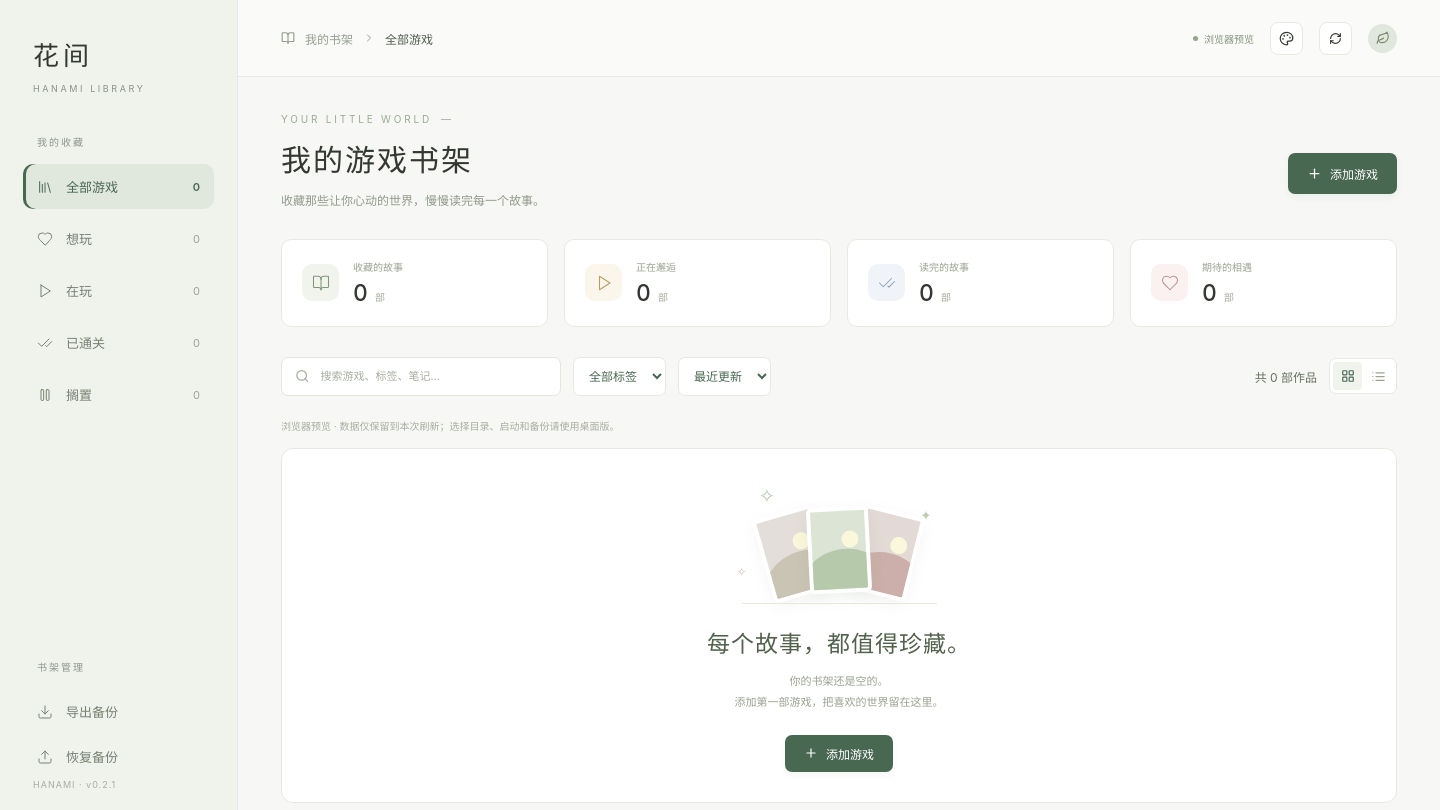
图标正在提取时选手动封面，晚到的默认图标不会覆盖它
Expected: the heading "每个故事，都值得珍藏。" is shown, [707,625,971,659]
Click the button "添加游戏" in the row of "我的游戏书架" at coordinates (1342, 174), box [1288,153,1397,194]
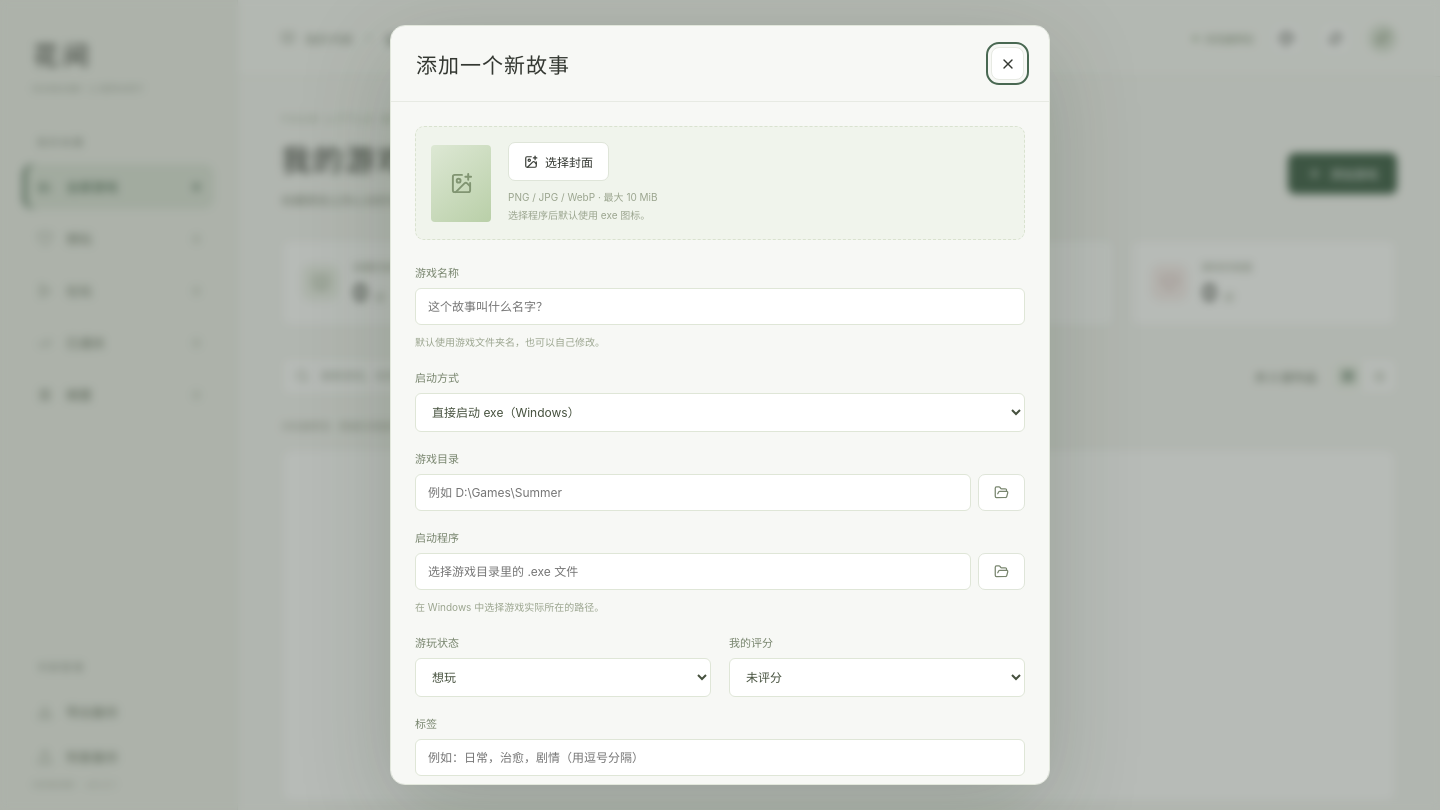
Type "D:\\Games\\Summer" into the field labelled "游戏目录" at coordinates (693, 492), box [415,474,971,511]
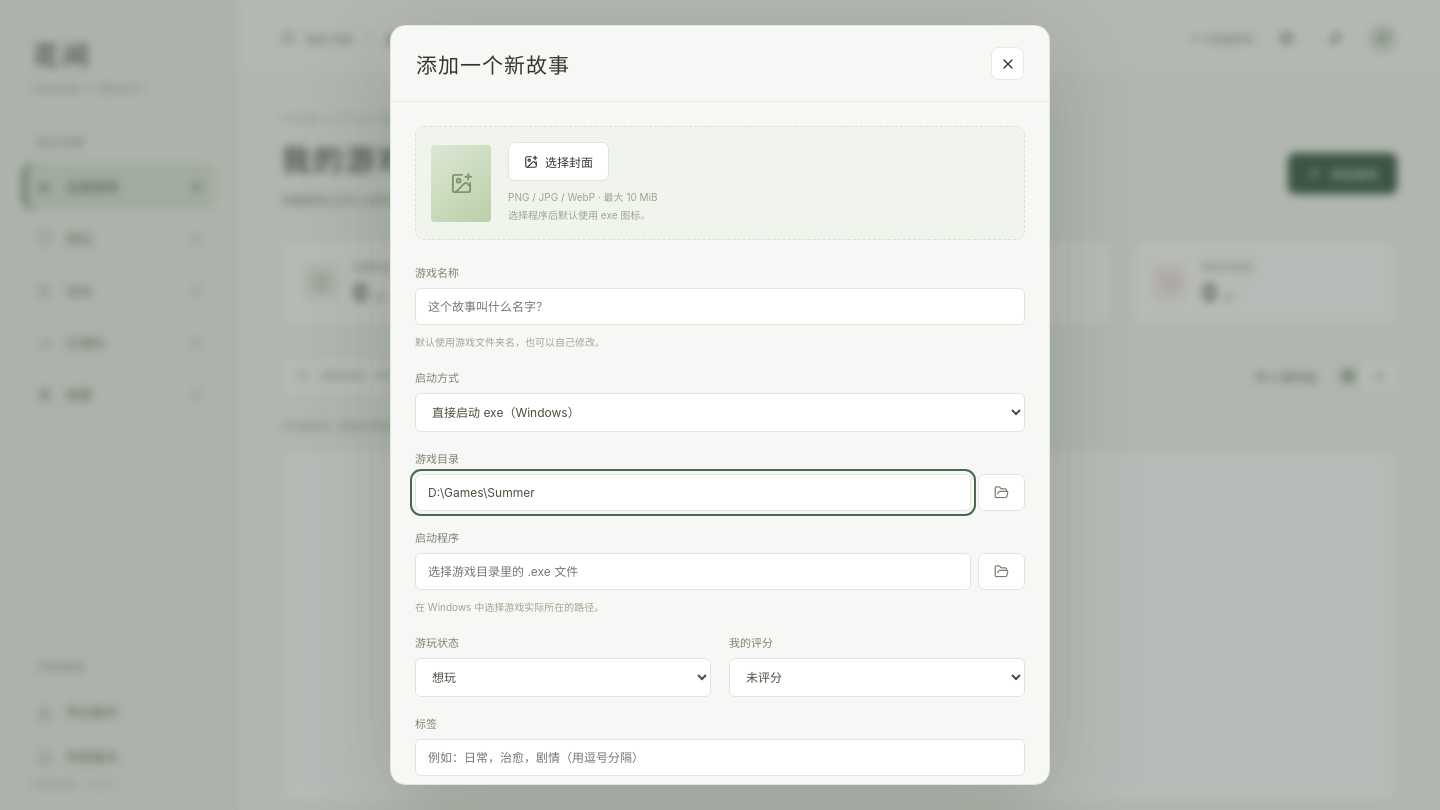
Click the button named "选择启动程序" at coordinates (1002, 572), box [978,553,1025,590]
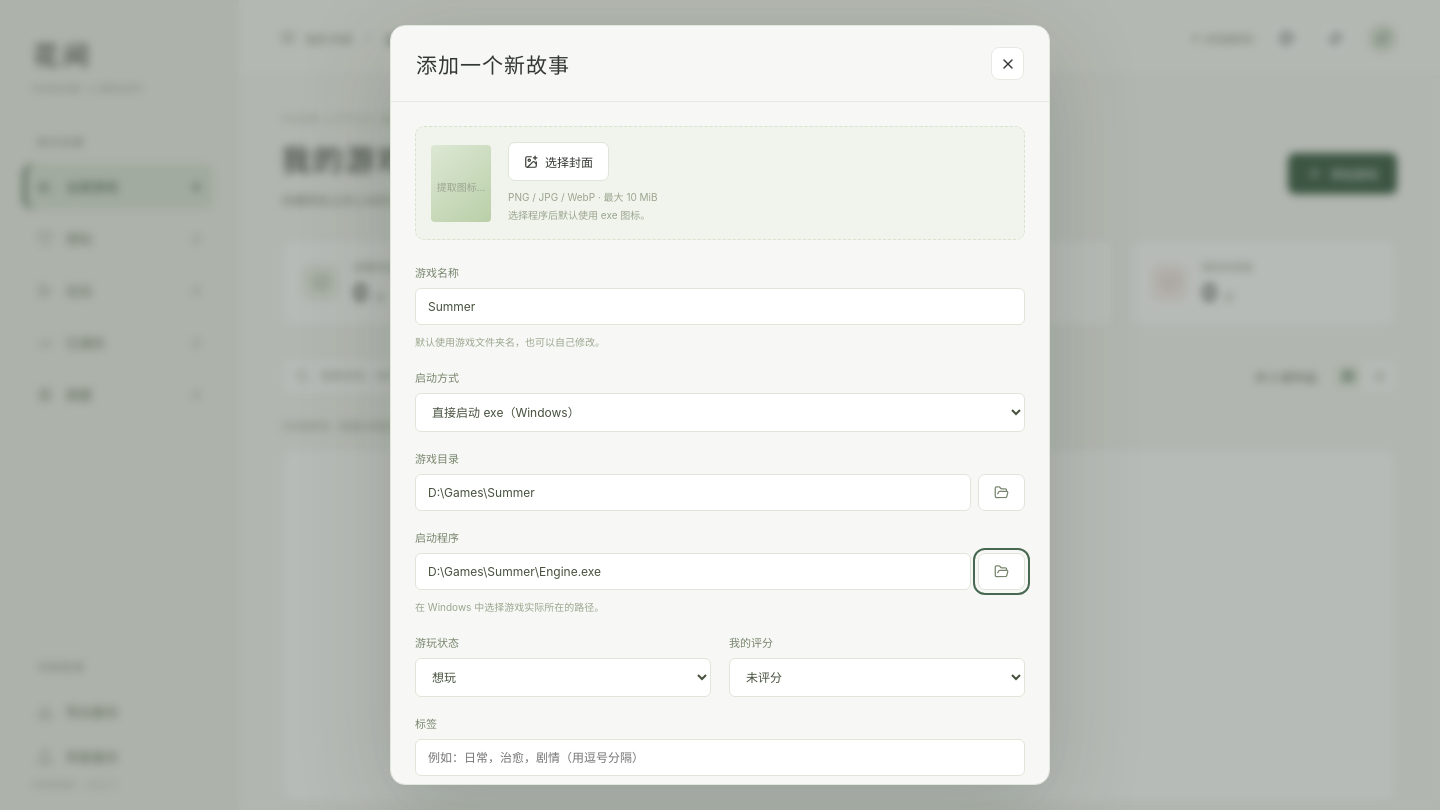
Click the button "选择封面" at coordinates (558, 162), box [508,142,609,181]
(page scrolled)
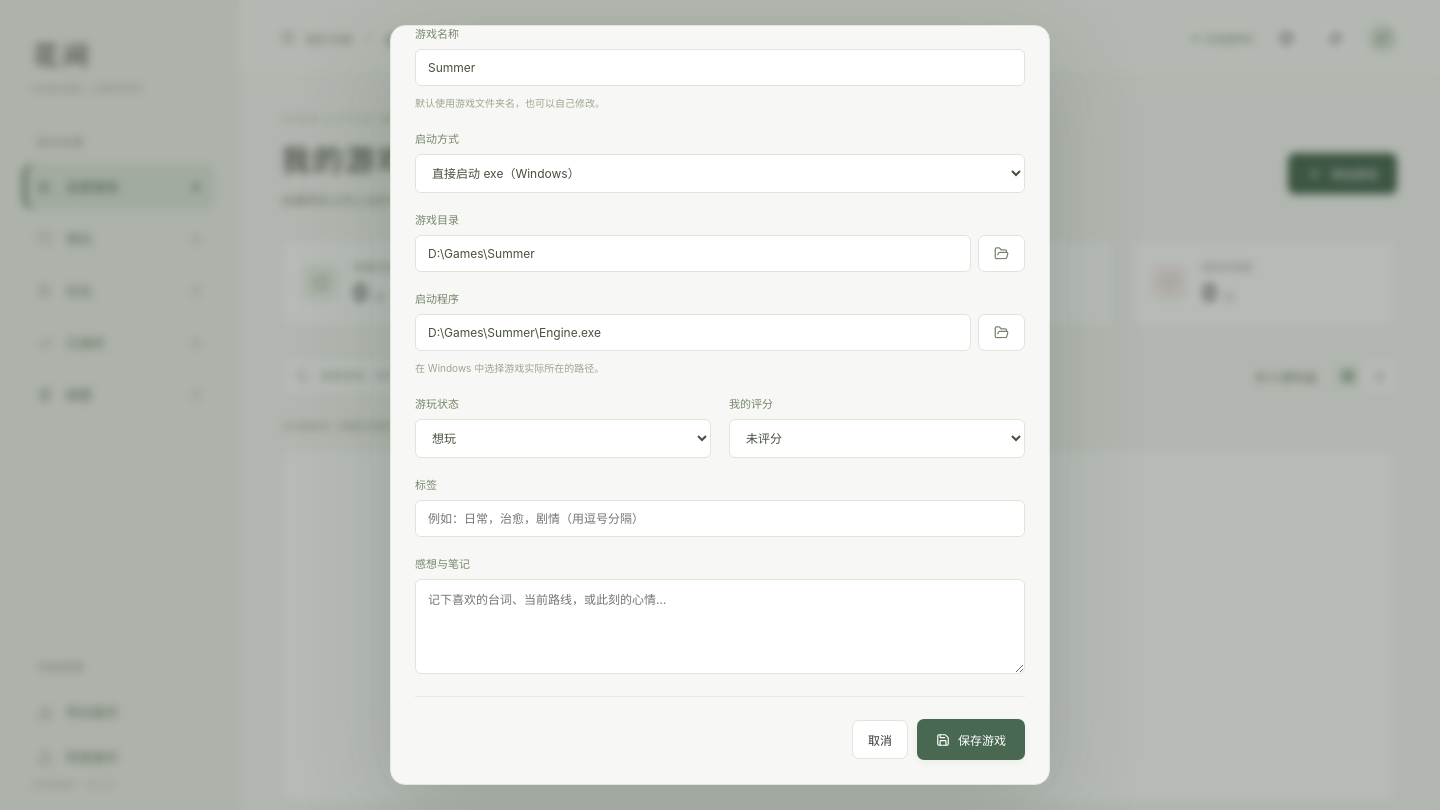
Now the button "保存游戏" is enabled, box [917,719,1025,760]
